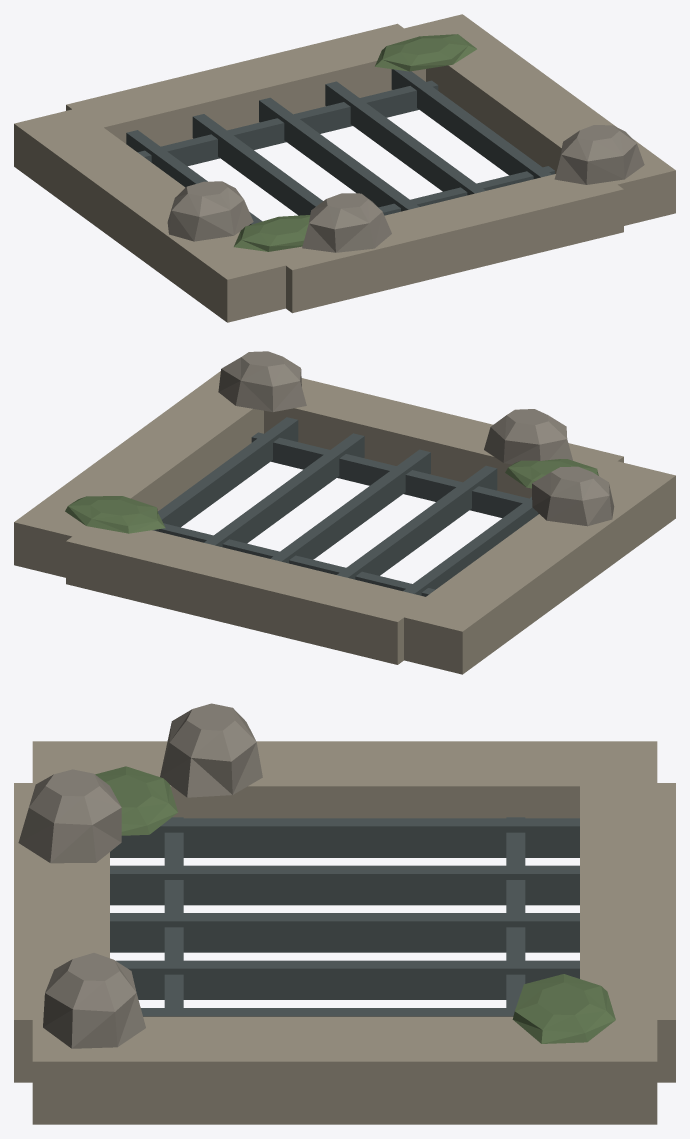
File: DG_Grate_RubbleDrain.fbx
3 views of the same model, one above another, from view 1: azimuth 30°, elevation 25°; view 2: azimuth 150°, elevation 25°; view 3: azimuth 270°, elevation 25° (orthographic). The views are drawn at different scales.
Parts seen in each view (by area): view 1: DG_Grate_RubbleDrain; view 2: DG_Grate_RubbleDrain; view 3: DG_Grate_RubbleDrain.
Part boxes in pixels (x1,y1,x2,y2): DG_Grate_RubbleDrain: (14,14,675,322); DG_Grate_RubbleDrain: (14,351,675,674); DG_Grate_RubbleDrain: (14,703,675,1124).
Size of the model in its own units: 1.42 by 0.24 by 1.24.
